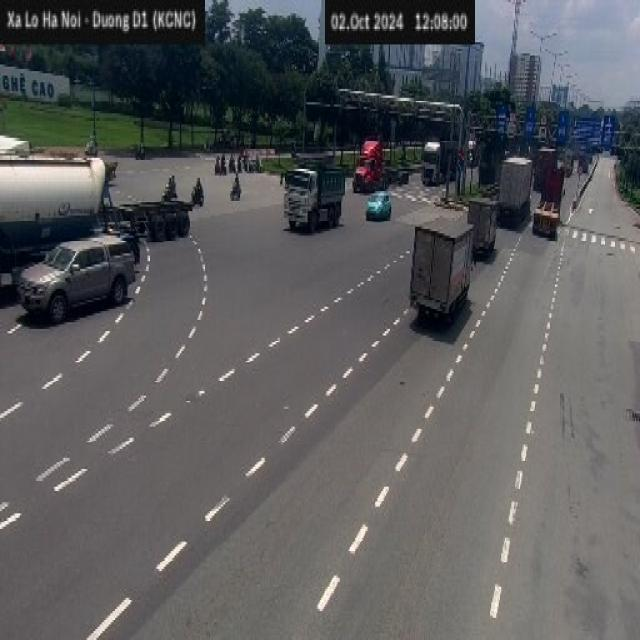car: (16, 233, 135, 324), (365, 191, 391, 220)
container-truck: (346, 132, 411, 198), (496, 152, 542, 228), (532, 159, 564, 240)
truck: (409, 211, 475, 325), (281, 162, 345, 231), (465, 194, 503, 274), (415, 128, 465, 184)
